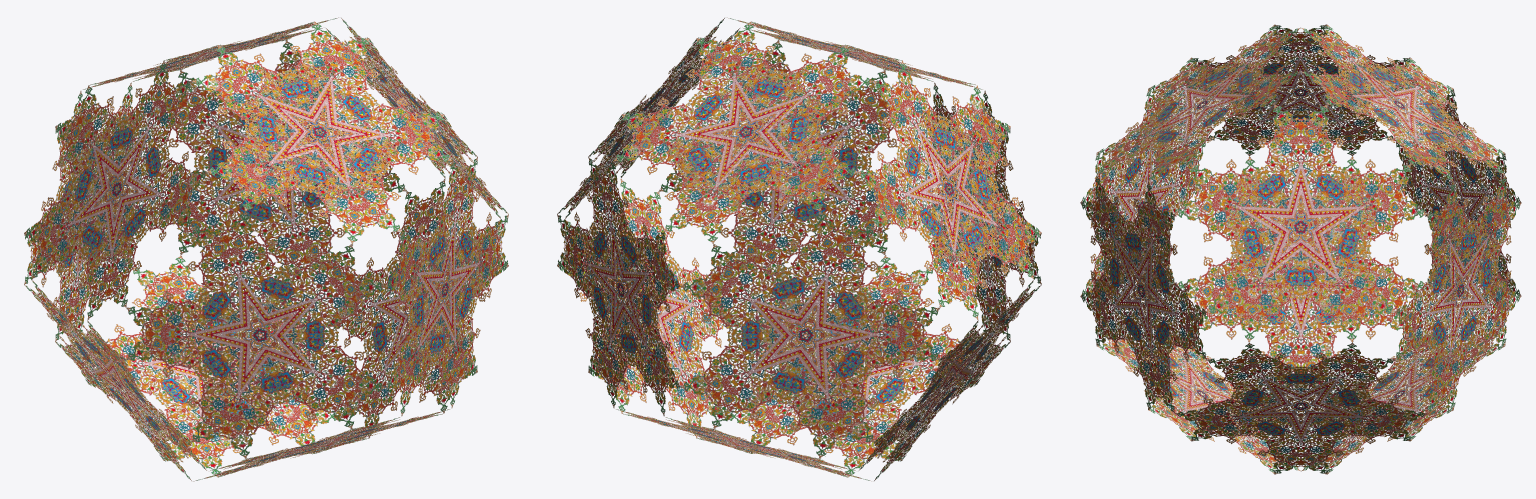
The model's file is Dodecahedron4.obj.
3 views of the same model, side by side, from view 1: azimuth 30°, elevation 25°; view 2: azimuth 150°, elevation 25°; view 3: azimuth 270°, elevation 25° (orthographic). The views are drawn at different scales.
Bounding box in the file's own units: 2.62 × 2.62 × 2.62.
1 material, 1 textured.
